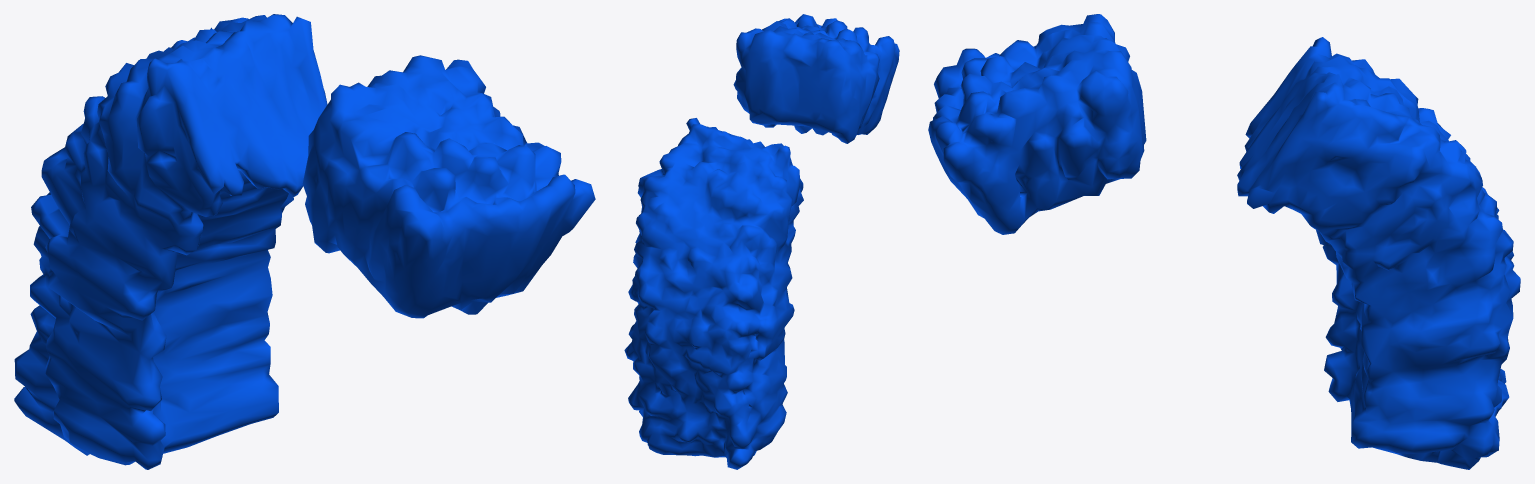
Rendered from mohawk blue.glb.
The picture shows the model from 3 angles, left to right: view 1: azimuth 30°, elevation 25°; view 2: azimuth 150°, elevation 25°; view 3: azimuth 270°, elevation 25°; orthographic projection. The views are drawn at different scales.
Visible parts, largest first — view 1: hair_short_mohawk_blue.001; view 2: hair_short_mohawk_blue.001; view 3: hair_short_mohawk_blue.001.
Part boxes in pixels (<box>): hair_short_mohawk_blue.001: <box>14,14,595,469</box>; hair_short_mohawk_blue.001: <box>624,14,899,469</box>; hair_short_mohawk_blue.001: <box>928,14,1520,469</box>.
Bounding box in the file's own units: 0.186 × 0.3261 × 0.4065.
Materials: 1 (1 with a texture image).
